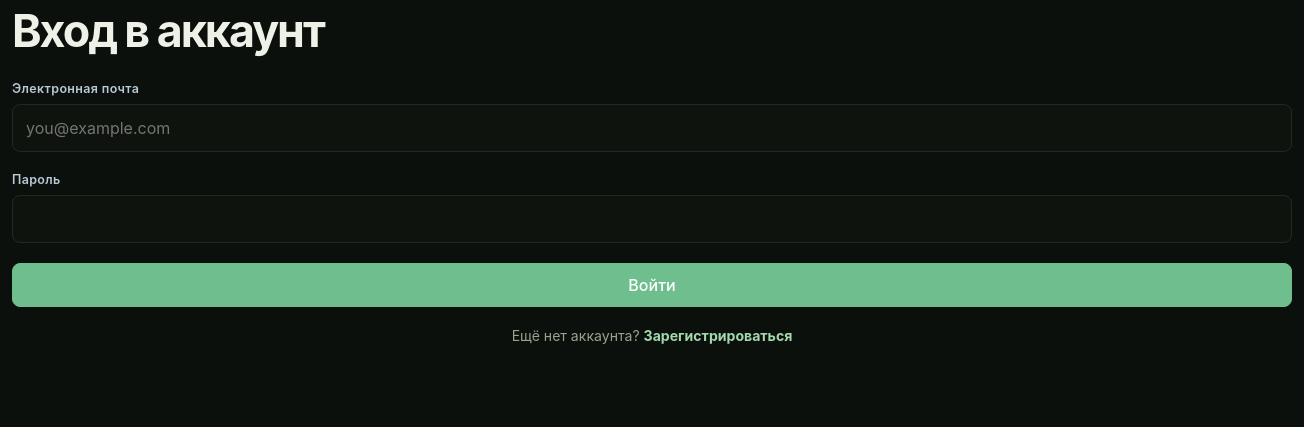
Test case: показывает ошибку входа
Type "user@example.com" into the field labelled "Электронная почта" at (652, 128), box [12,104,1292,152]
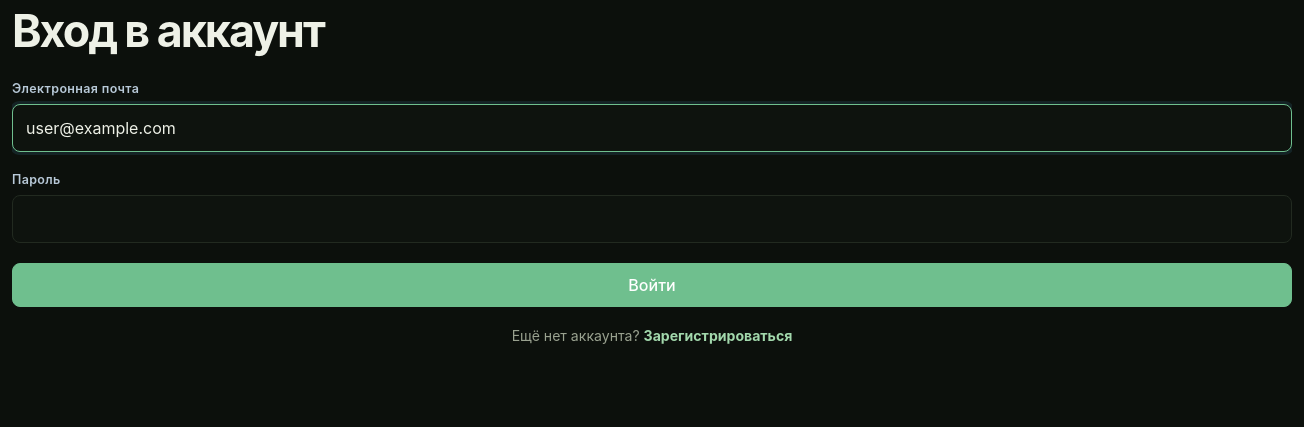
Type "password" into the password field labelled "Пароль" at (652, 219), box [12,195,1292,243]
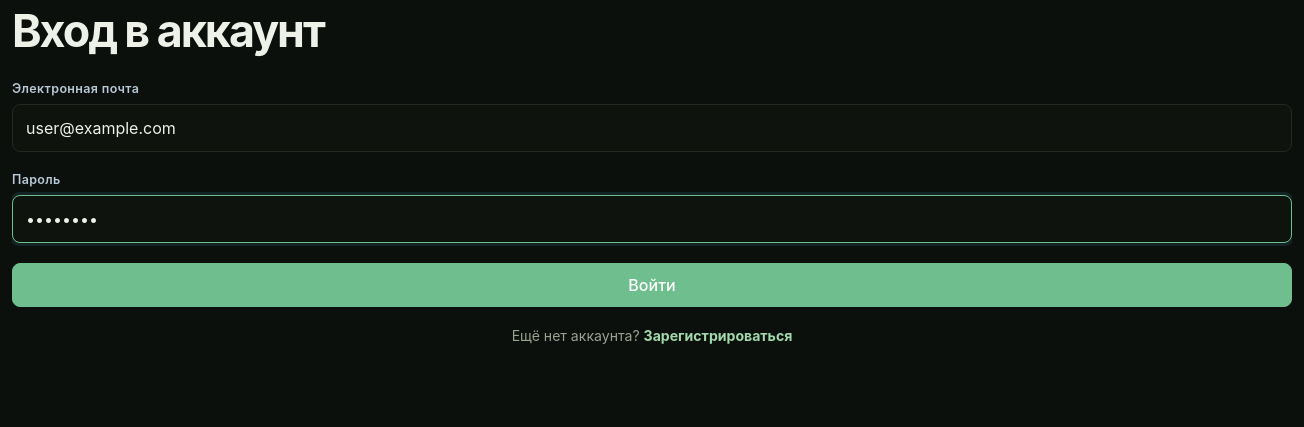
Click the button "Войти" at (652, 285), box [12,263,1292,307]
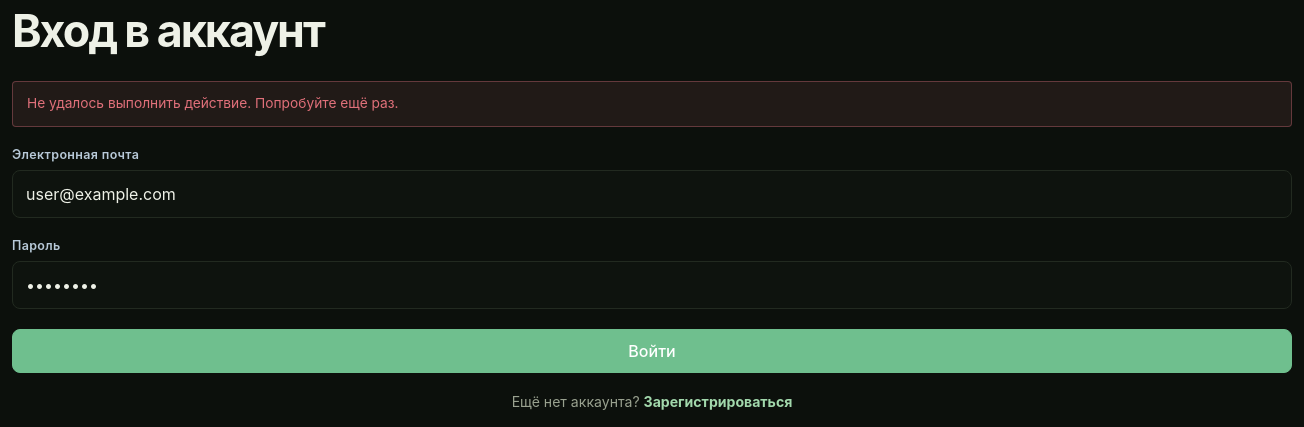
Expected: the message shows "Не удалось выполнить действие", [27,95,399,111]
